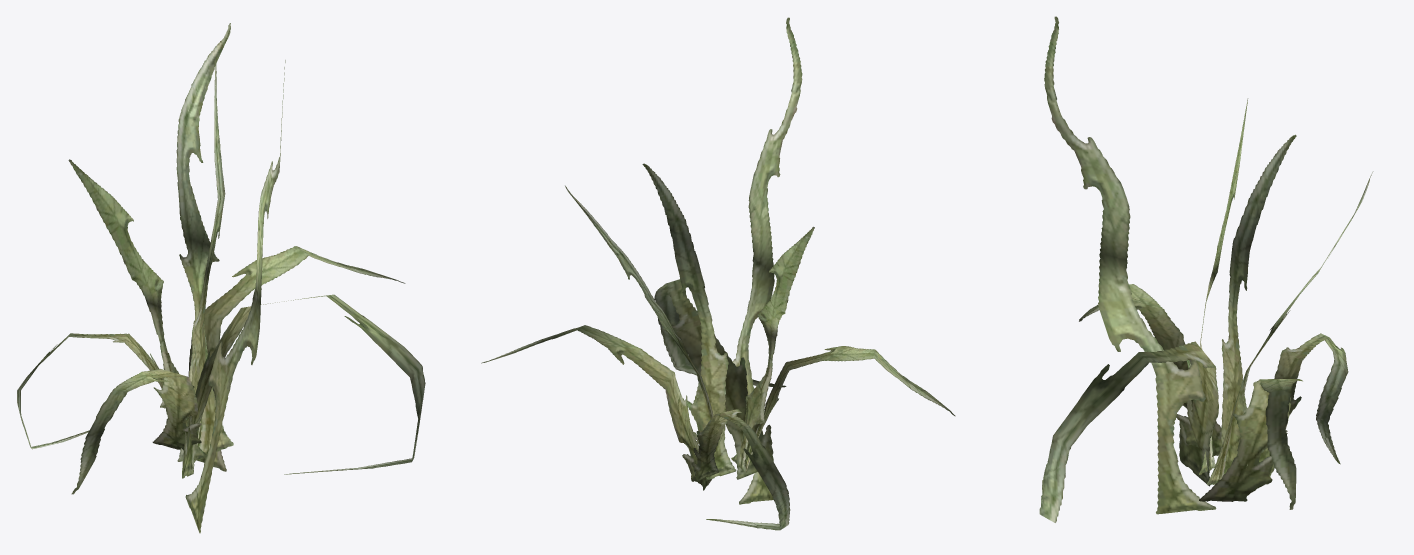
The model's file is core_leaf_razorgrass_frst_a1_l0.fbx.
The picture shows the model from 3 angles, left to right: view 1: azimuth 30°, elevation 25°; view 2: azimuth 150°, elevation 25°; view 3: azimuth 270°, elevation 25°; orthographic projection. The views are drawn at different scales.
Parts seen in each view (by area): view 1: mesh_node; view 2: mesh_node; view 3: mesh_node.
Part boxes in pixels (x1,y1,x2,y2): mesh_node: (17,23,425,533); mesh_node: (481,17,955,530); mesh_node: (1039,16,1373,522).
Size of the model in its own units: 1.38 by 1.51 by 1.07.
